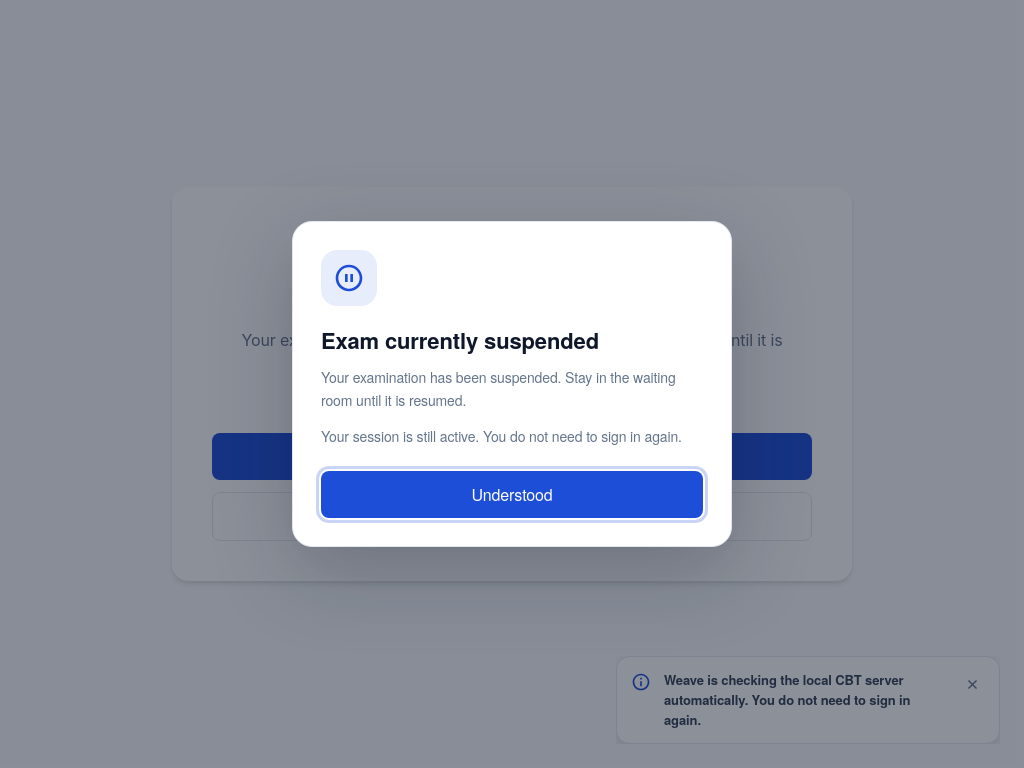
Test: returns a suspended student to the waiting room without logging them out
Expected: the dialog "Exam currently suspended" shows "Your session is still active", [321,426,682,446]
Click the button "Understood".
click(512, 495)  # box [321,471,703,518]
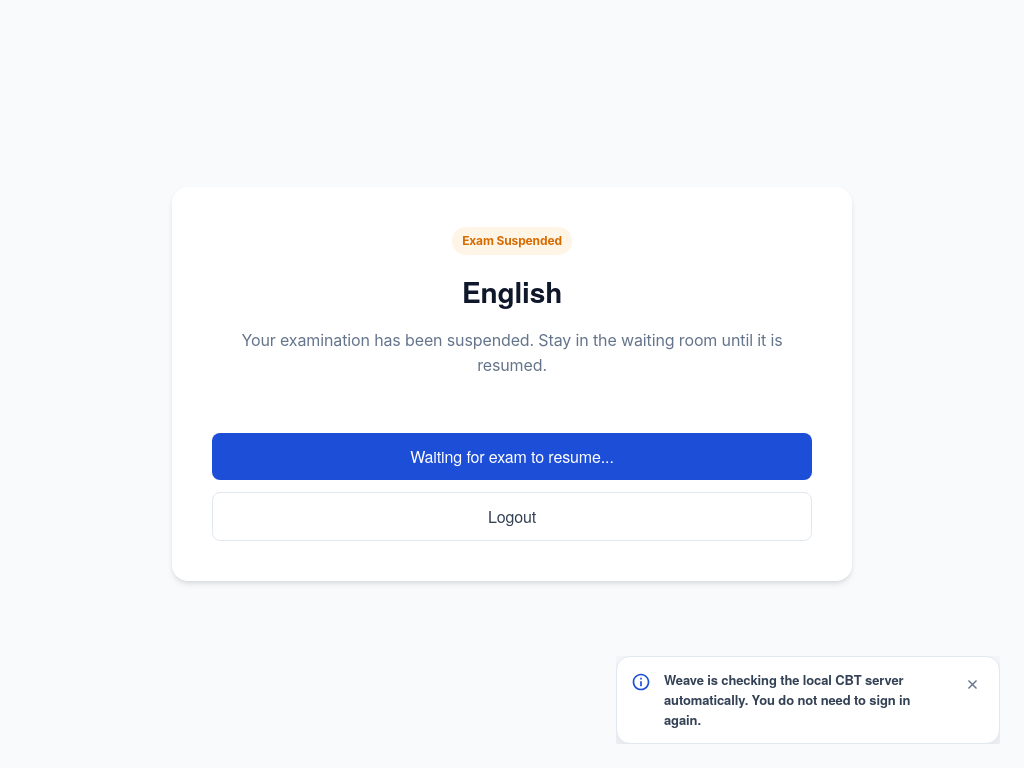
Expected: the button "Waiting for exam to resume..." is disabled, [212,433,812,480]
Expected: the dialog is gone
